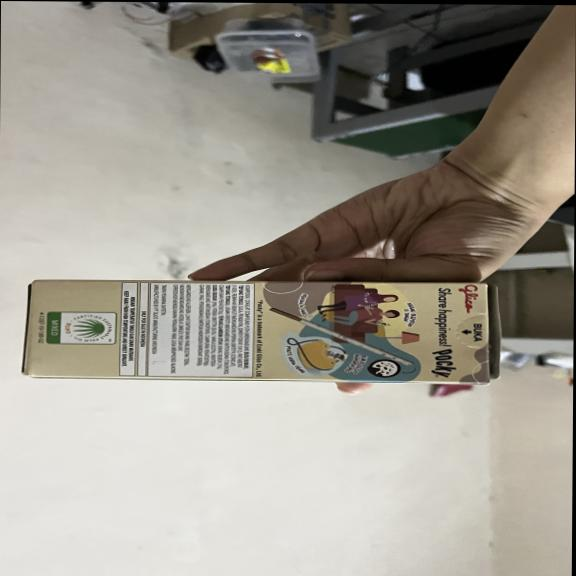Kertas: (27, 277, 493, 380)
